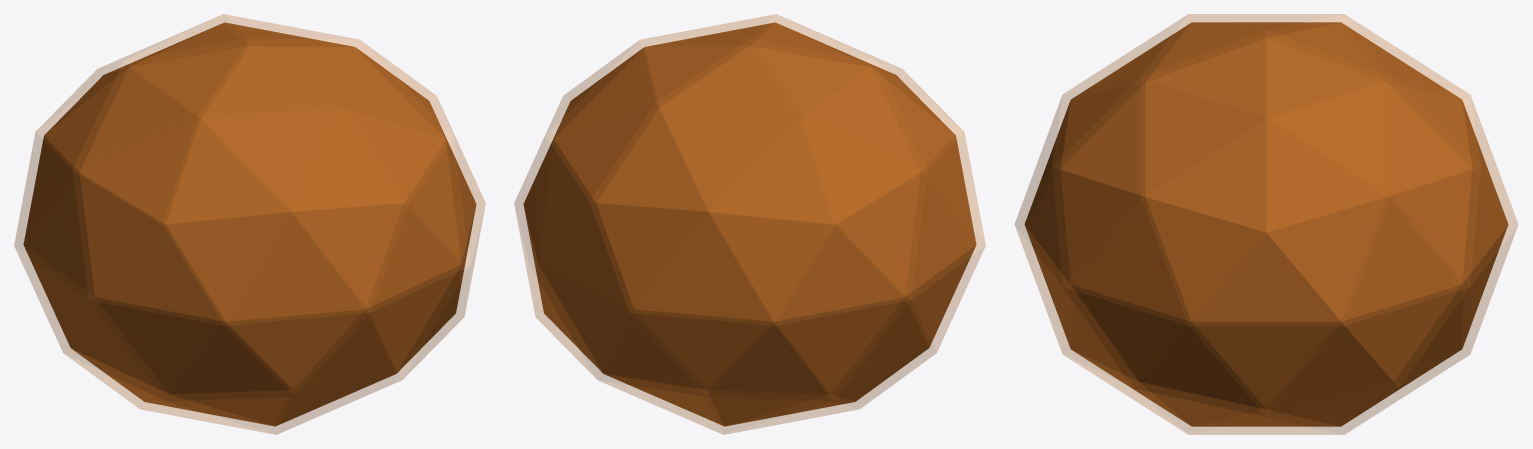
File: item_gem8.glb
The picture shows the model from 3 angles, left to right: view 1: azimuth 30°, elevation 25°; view 2: azimuth 150°, elevation 25°; view 3: azimuth 270°, elevation 25°; orthographic projection. The views are drawn at different scales.
Visible parts, largest first — view 1: jewellery_gem8_glass, jewellery_gem8; view 2: jewellery_gem8_glass, jewellery_gem8; view 3: jewellery_gem8_glass, jewellery_gem8.
Boxes of the visible parts, x1=… form: jewellery_gem8_glass: x1=14, y1=14, x2=485, y2=434; jewellery_gem8: x1=23, y1=22, x2=476, y2=426; jewellery_gem8_glass: x1=514, y1=14, x2=985, y2=434; jewellery_gem8: x1=523, y1=22, x2=976, y2=426; jewellery_gem8_glass: x1=1015, y1=14, x2=1517, y2=434; jewellery_gem8: x1=1024, y1=22, x2=1508, y2=426.
Bounding box in the file's own units: 0.9511 × 0.85 × 1.
